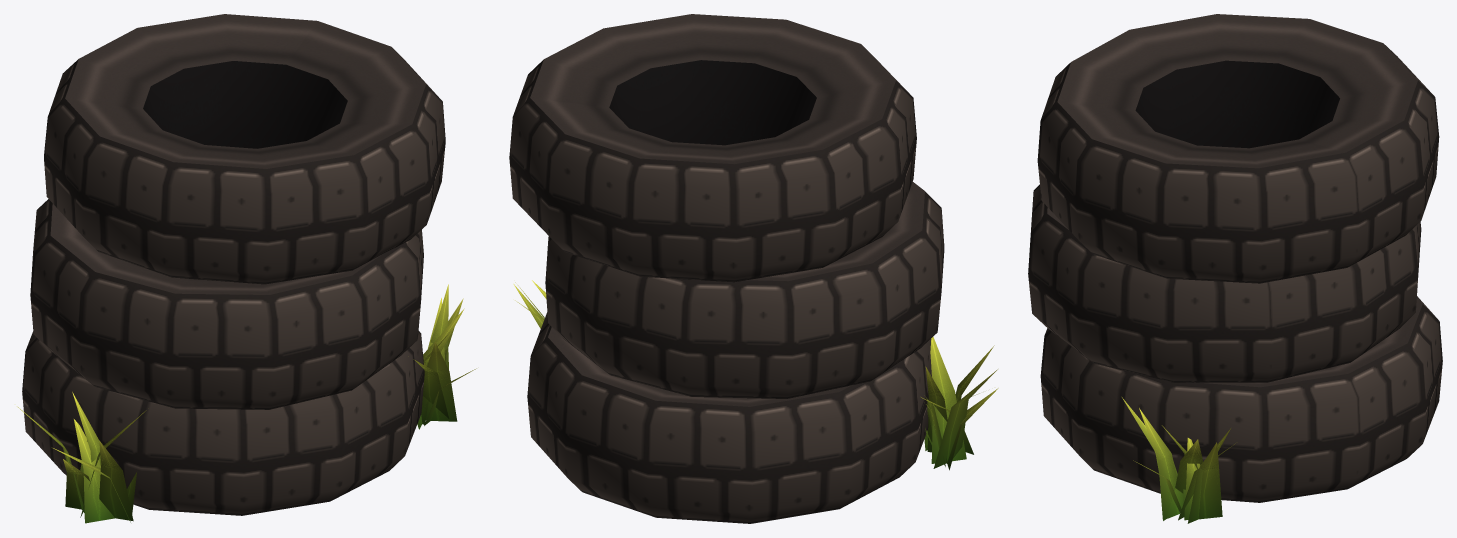
Rendered from Tires_Stack.fbx.
The picture shows the model from 3 angles, left to right: view 1: azimuth 30°, elevation 25°; view 2: azimuth 150°, elevation 25°; view 3: azimuth 270°, elevation 25°; orthographic projection.
Visible parts, largest first — view 1: Tires_Stack_Body, Tires_Stack_Grass; view 2: Tires_Stack_Body, Tires_Stack_Grass; view 3: Tires_Stack_Body, Tires_Stack_Grass.
Part boxes in pixels (left/top/right/bottom): Tires_Stack_Body: left=22, top=14, right=445, bottom=515; Tires_Stack_Grass: left=17, top=284, right=476, bottom=523; Tires_Stack_Body: left=509, top=14, right=944, bottom=523; Tires_Stack_Grass: left=513, top=280, right=998, bottom=470; Tires_Stack_Body: left=1028, top=14, right=1442, bottom=502; Tires_Stack_Grass: left=1122, top=397, right=1235, bottom=523.
Size of the model in its own units: 1.09 by 0.7834 by 0.8453.
Materials: 1 (1 with a texture image).
